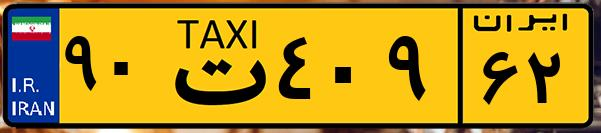0: (330, 28, 385, 110), (110, 28, 158, 98)
2: (525, 38, 570, 115)
4: (270, 28, 330, 110)
6: (475, 38, 525, 113)
9: (385, 28, 445, 110), (57, 26, 110, 100)
ت: (158, 12, 270, 120)
